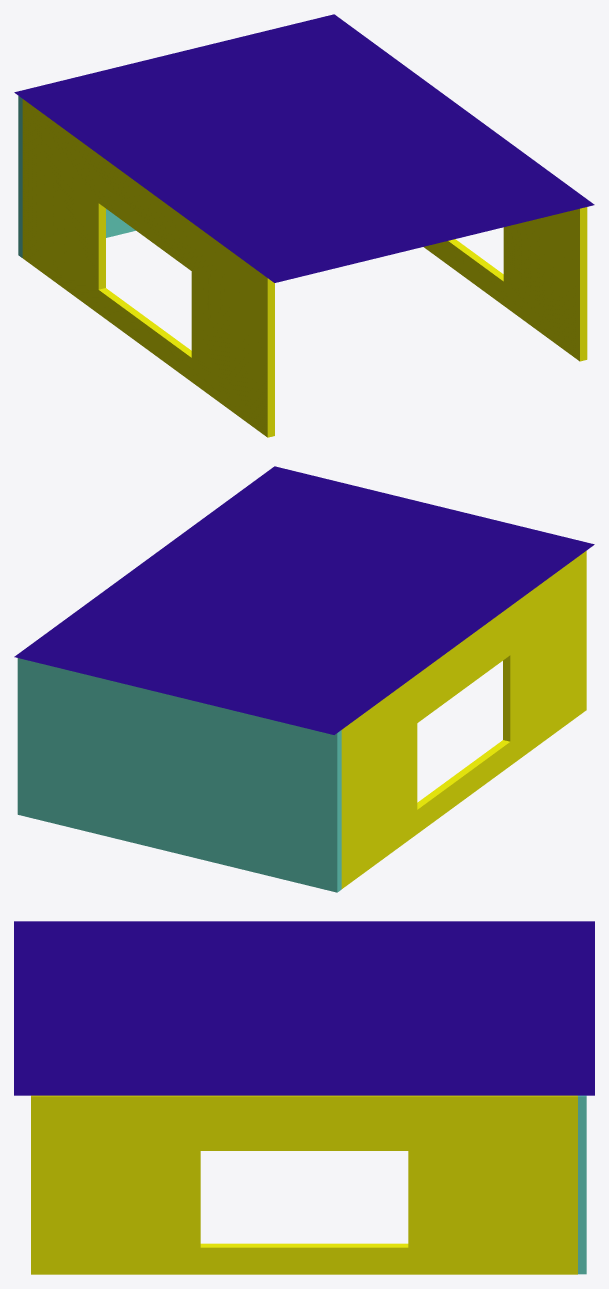
File: physics_room_Nov19.glb
3 views of the same model, one above another, from view 1: azimuth 30°, elevation 25°; view 2: azimuth 150°, elevation 25°; view 3: azimuth 270°, elevation 25° (orthographic). The views are drawn at different scales.
Parts seen in each view (by area): view 1: Plane, LeftWall, RightWall, FrontWall; view 2: Plane, FrontWall, LeftWall; view 3: Plane, RightWall, FrontWall.
Boxes of the visible parts, box(x1,y1,x2,y2) form: Plane: box(14, 14, 594, 282); LeftWall: box(22, 99, 274, 437); RightWall: box(424, 207, 587, 361); FrontWall: box(18, 96, 135, 257); Plane: box(14, 466, 594, 734); FrontWall: box(17, 658, 341, 892); LeftWall: box(341, 551, 586, 888); Plane: box(14, 921, 594, 1095); RightWall: box(31, 1095, 577, 1274); FrontWall: box(578, 1095, 586, 1274).
Bounding box in the file's own units: 21.81 × 10.43 × 30.73.
